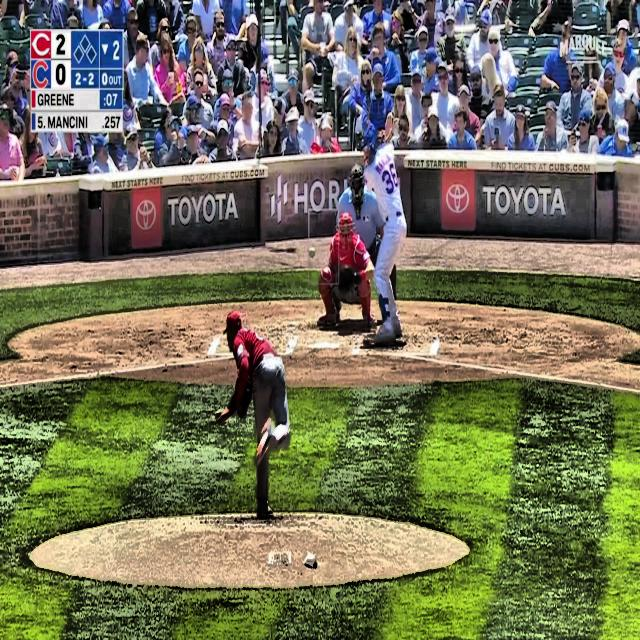baseball: (308, 247, 316, 259)
